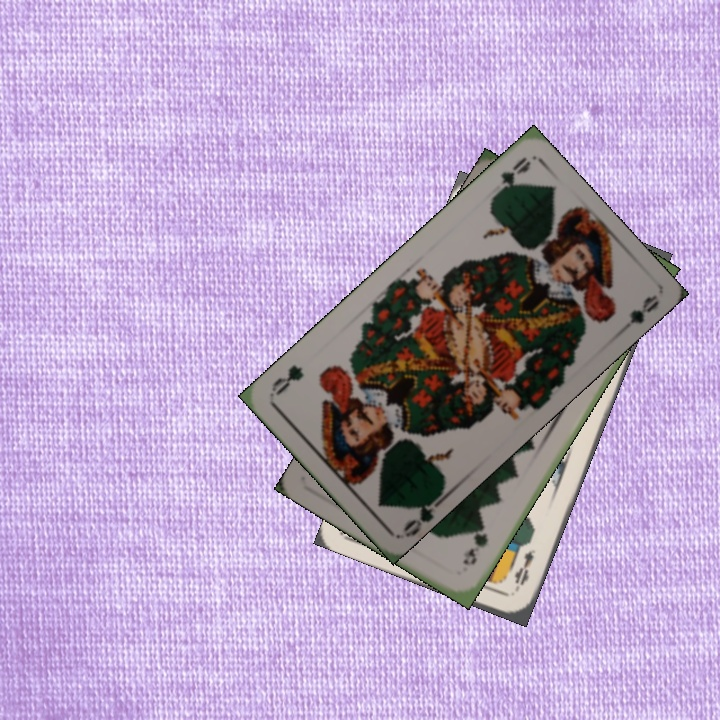EO: (510, 545, 539, 595)
G9: (459, 521, 491, 569)
GO: (399, 491, 448, 539), (487, 153, 533, 204)
